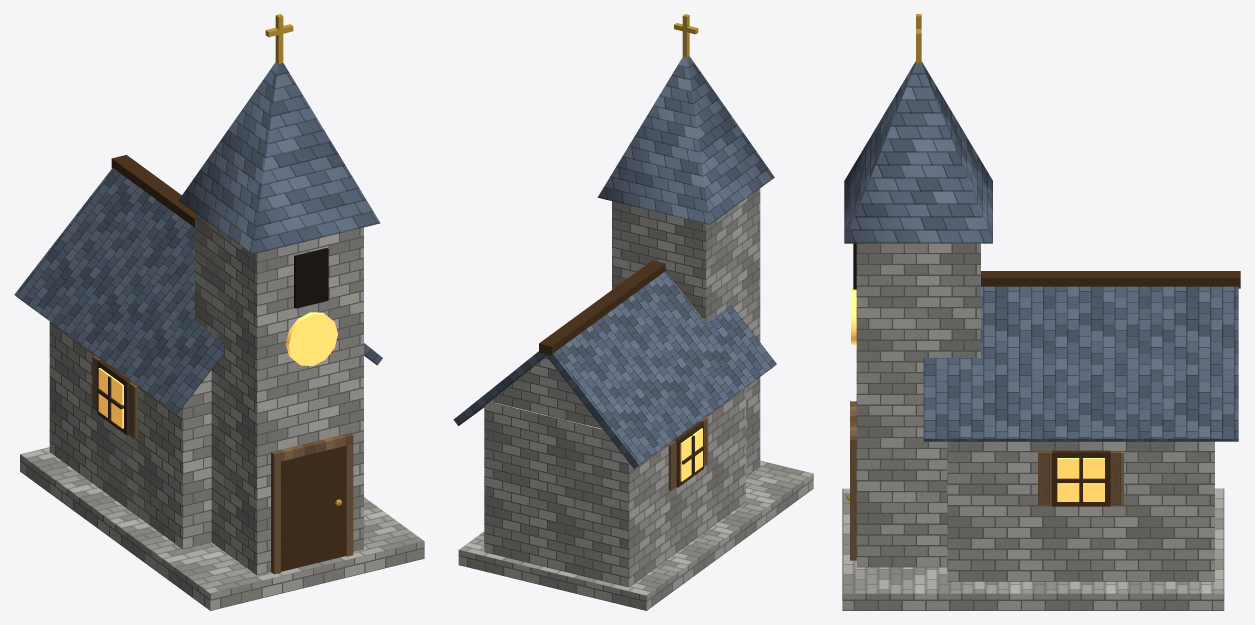
The model's file is chapel.glb.
The picture shows the model from 3 angles, left to right: view 1: azimuth 30°, elevation 25°; view 2: azimuth 150°, elevation 25°; view 3: azimuth 270°, elevation 25°; orthographic projection. The views are drawn at different scales.
Visible parts, largest first — view 1: chapel; view 2: chapel; view 3: chapel.
Part boxes in pixels (<box>): chapel: <box>14,14,424,610</box>; chapel: <box>453,14,813,610</box>; chapel: <box>842,14,1240,610</box>.
Size of the model in its own units: 2.6 by 6.28 by 4.17.
7 materials, 3 textured.
